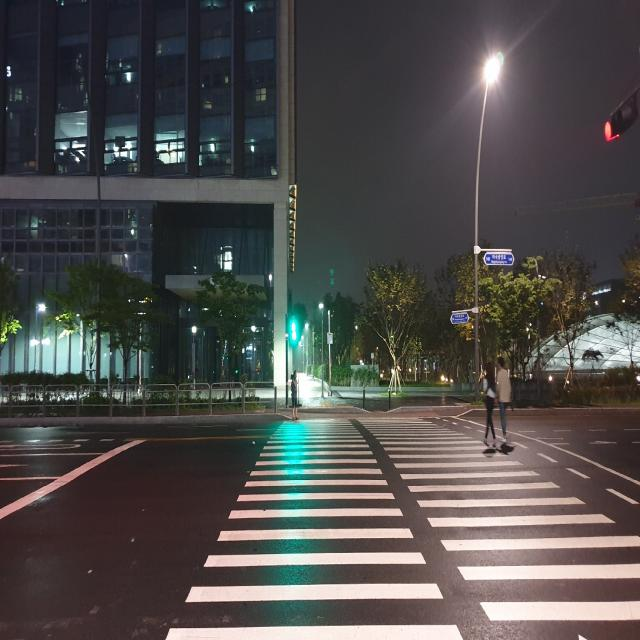초록불: (290, 313, 298, 342)
횡단보도: (161, 410, 640, 640)
